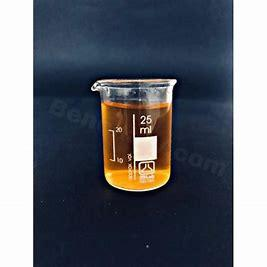Beaker: (83, 66, 178, 195)
